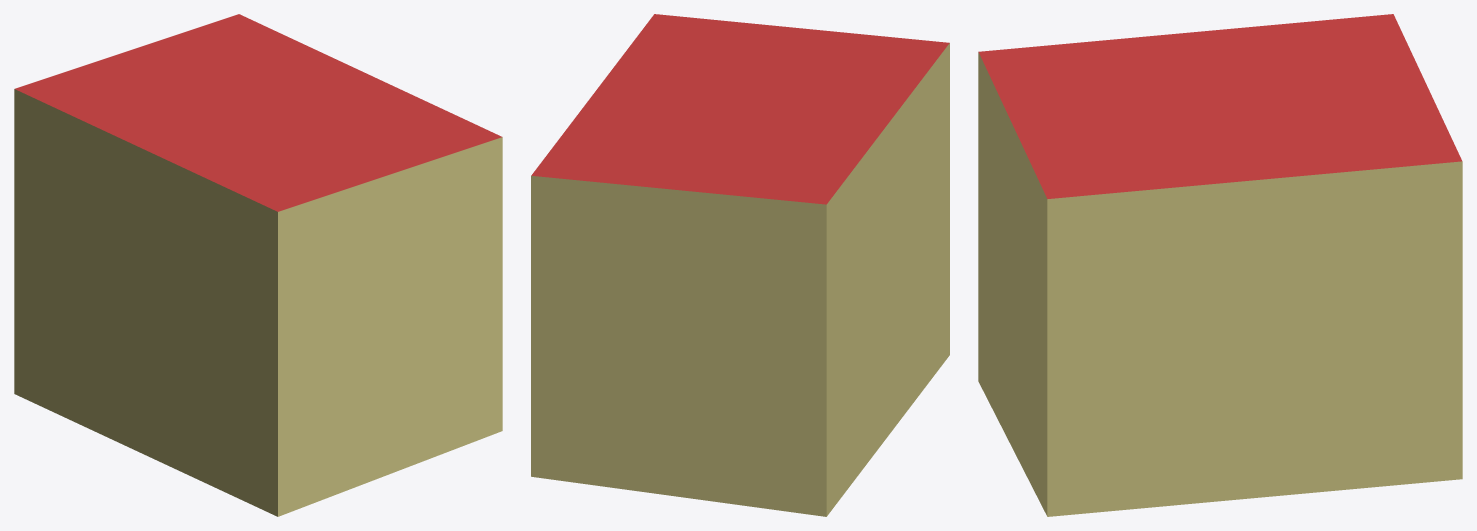
3 renders of one model, left to right at view 1: azimuth 30°, elevation 25°; view 2: azimuth 150°, elevation 25°; view 3: azimuth 270°, elevation 25°, orthographic. The views are drawn at different scales.
Bounding box in the file's own units: 5.83 × 6.88 × 5.17.
